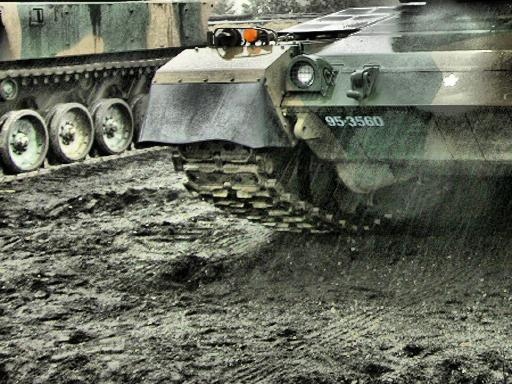tanks: (145, 1, 512, 233)
